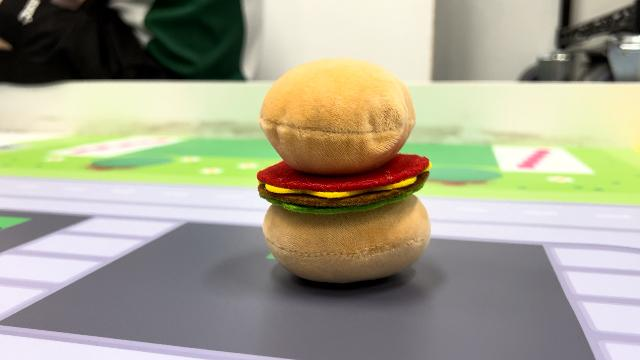burger: (250, 53, 438, 286)
